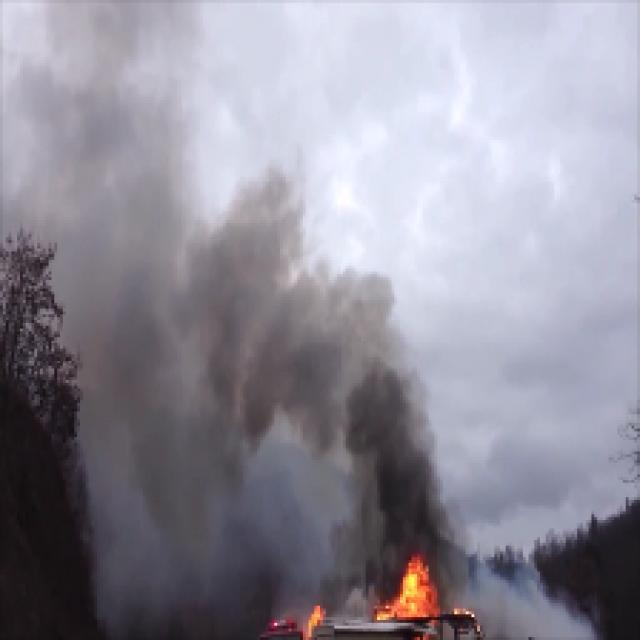fire: (381, 558, 444, 626)
smoke: (45, 38, 248, 605), (257, 188, 401, 464), (354, 473, 465, 549)
